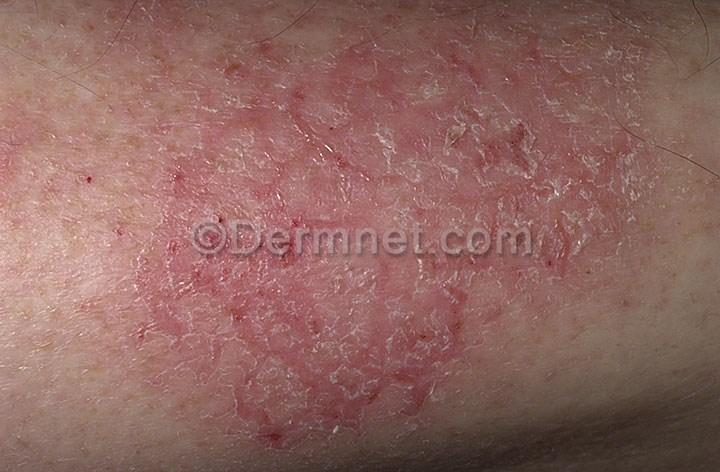Eczema: (206, 33, 642, 227), (203, 327, 456, 449)
